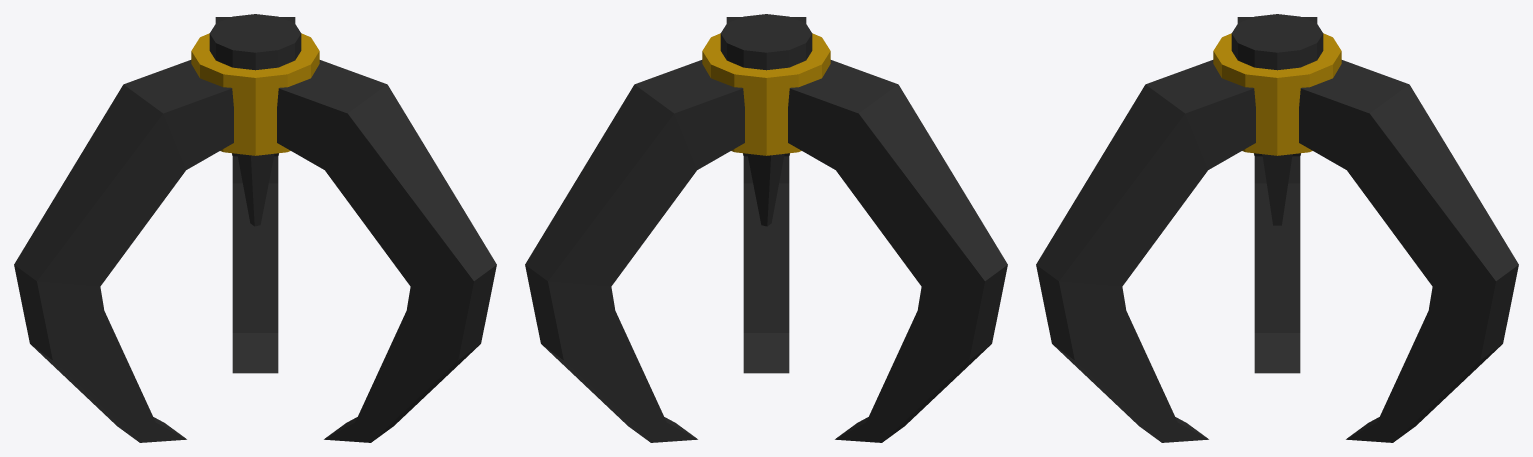
The model's file is claw.fbx.
3 renders of one model, left to right at view 1: azimuth 30°, elevation 25°; view 2: azimuth 150°, elevation 25°; view 3: azimuth 270°, elevation 25°, orthographic.
Visible parts, largest first — view 1: Empty_Mesh; view 2: Empty_Mesh; view 3: Empty_Mesh.
Boxes of the visible parts, bbox=[...] form: Empty_Mesh: bbox=[14, 14, 496, 442]; Empty_Mesh: bbox=[525, 14, 1007, 442]; Empty_Mesh: bbox=[1036, 14, 1518, 442].
Bounding box in the file's own units: 913 × 912 × 1055.
